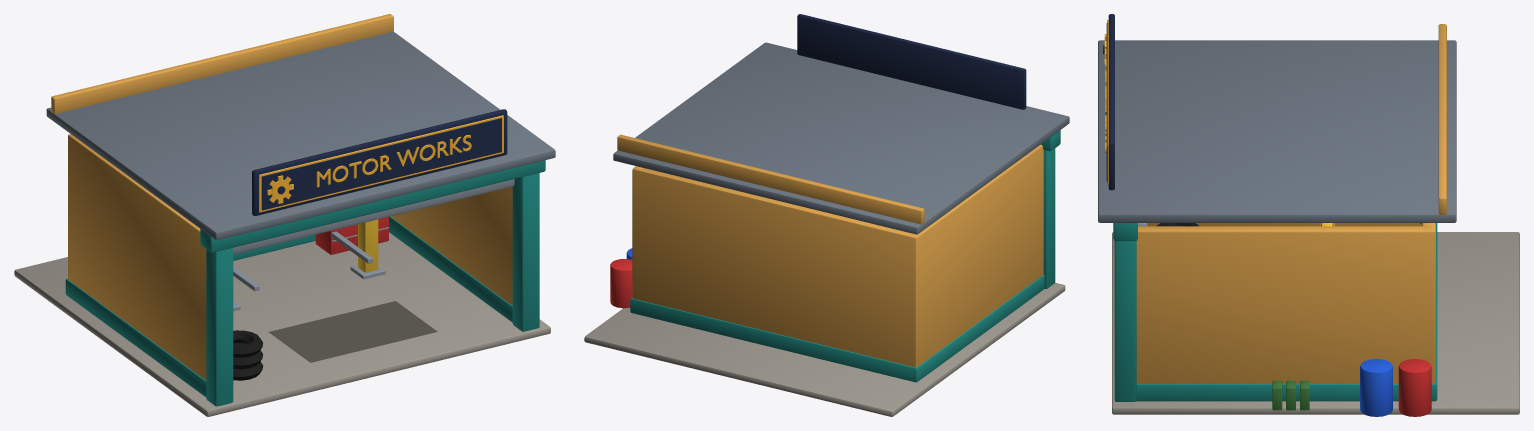
Rendered from motor-garage.glb.
3 renders of one model, left to right at view 1: azimuth 30°, elevation 25°; view 2: azimuth 150°, elevation 25°; view 3: azimuth 270°, elevation 25°, orthographic. The views are drawn at different scales.
Visible parts, largest first — view 1: MotorGarage; view 2: MotorGarage; view 3: MotorGarage.
Boxes of the visible parts, x1=… form: MotorGarage: x1=14, y1=14, x2=555, y2=416; MotorGarage: x1=584, y1=14, x2=1069, y2=416; MotorGarage: x1=1098, y1=14, x2=1519, y2=416.
Size of the model in its own units: 8 by 4.97 by 7.65.
